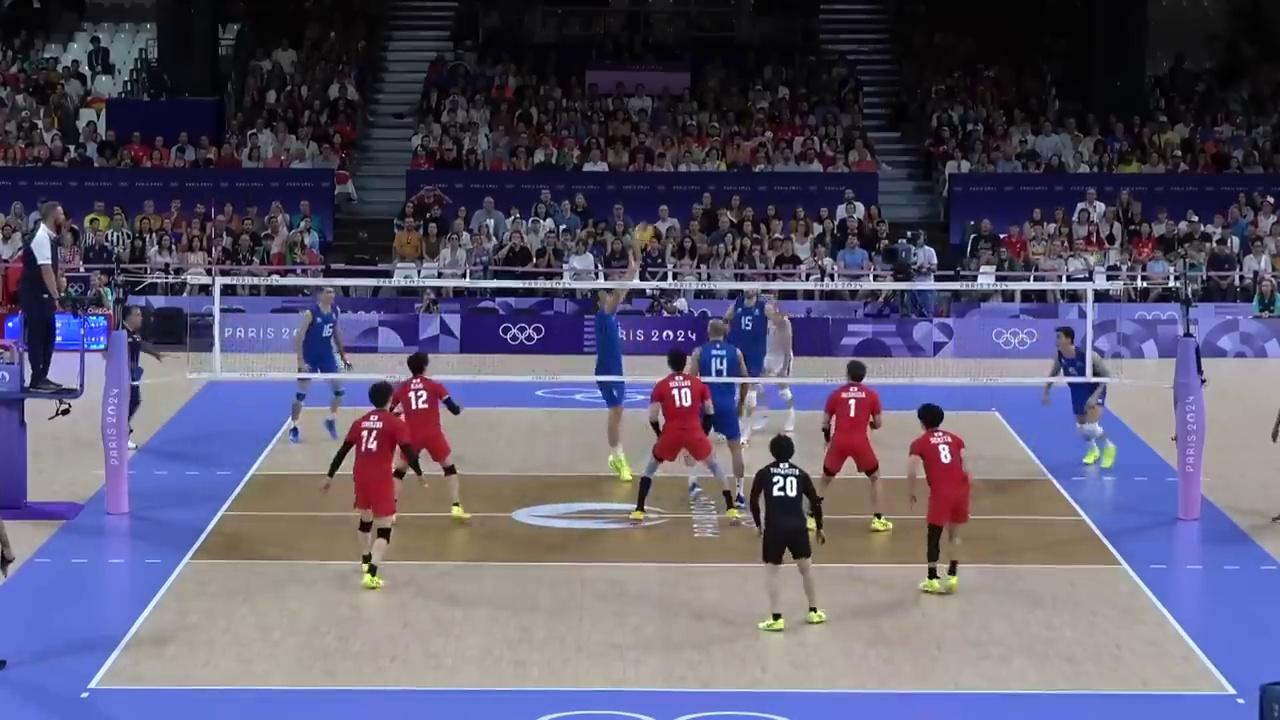ball: (629, 222, 655, 248)
